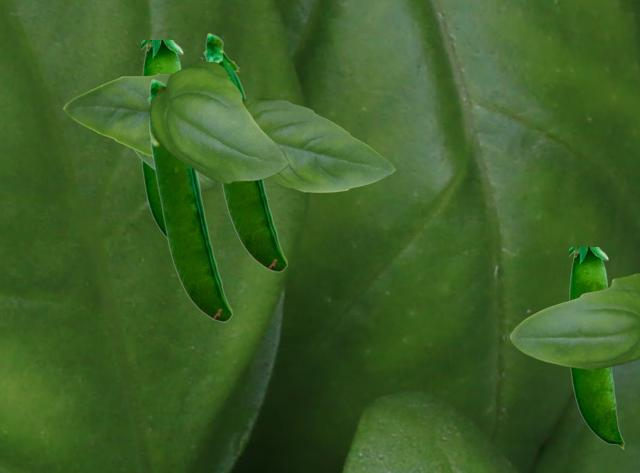pea: (147, 78, 231, 321), (203, 32, 286, 271), (569, 247, 623, 448), (141, 40, 184, 237)
